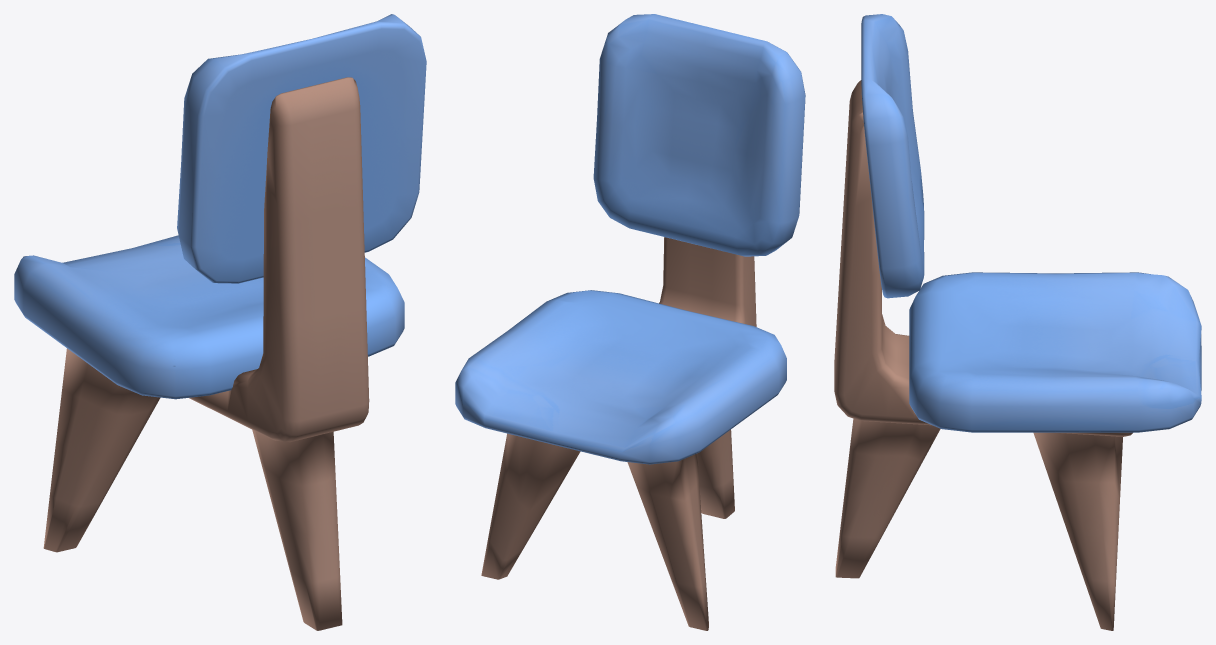
File: charri.fbx
3 renders of one model, left to right at view 1: azimuth 30°, elevation 25°; view 2: azimuth 150°, elevation 25°; view 3: azimuth 270°, elevation 25°, orthographic. The views are drawn at different scales.
Visible parts, largest first — view 1: Cube.002, Cube.001, Cube; view 2: Cube.001, Cube, Cube.002; view 3: Cube, Cube.002, Cube.001.
Part boxes in pixels (box(x1,y1,x2,y2)): Cube.002: box(43, 77, 369, 630); Cube.001: box(177, 14, 426, 283); Cube: box(14, 235, 404, 399); Cube.001: box(593, 14, 805, 256); Cube: box(455, 290, 786, 464); Cube.002: box(481, 237, 756, 630); Cube: box(909, 272, 1201, 432); Cube.002: box(834, 80, 1132, 630); Cube.001: box(861, 14, 924, 298).
Bounding box in the file's own units: 148 × 292 × 186.
